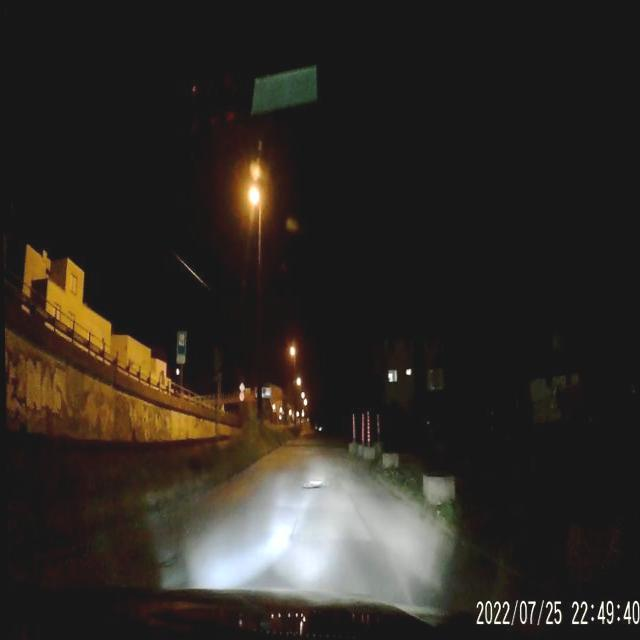Potholes: (294, 468, 331, 503), (154, 546, 184, 575)
